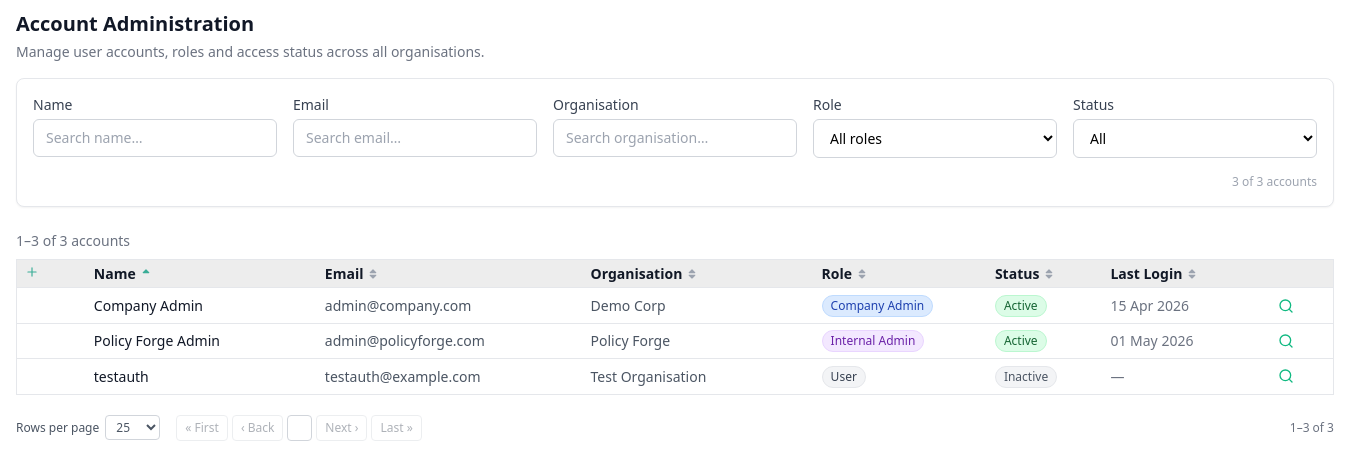
T-SETTINGS-USERS-R03: search filters reduce displayed rows › filters table by name input
This screenshot has width=1351, height=458.
Type "Company Admin" into the field named "Filter by name" at {"x": 155, "y": 138}, box [33,119,277,157]
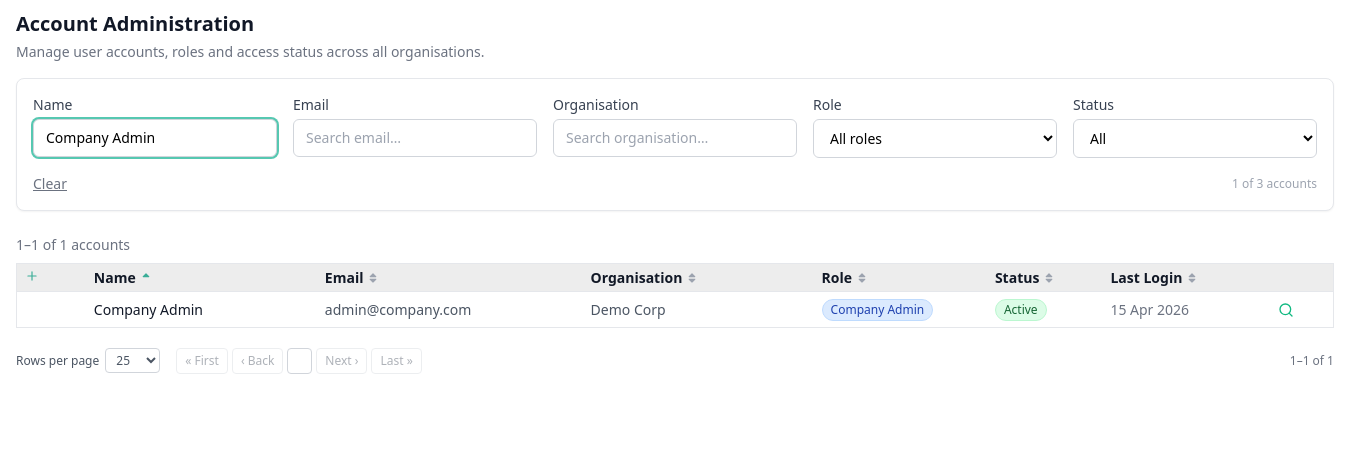
Check: the text "admin@company.com" is shown, box [325,300,471,319]
Check: the text "admin@policyforge.com" is gone
